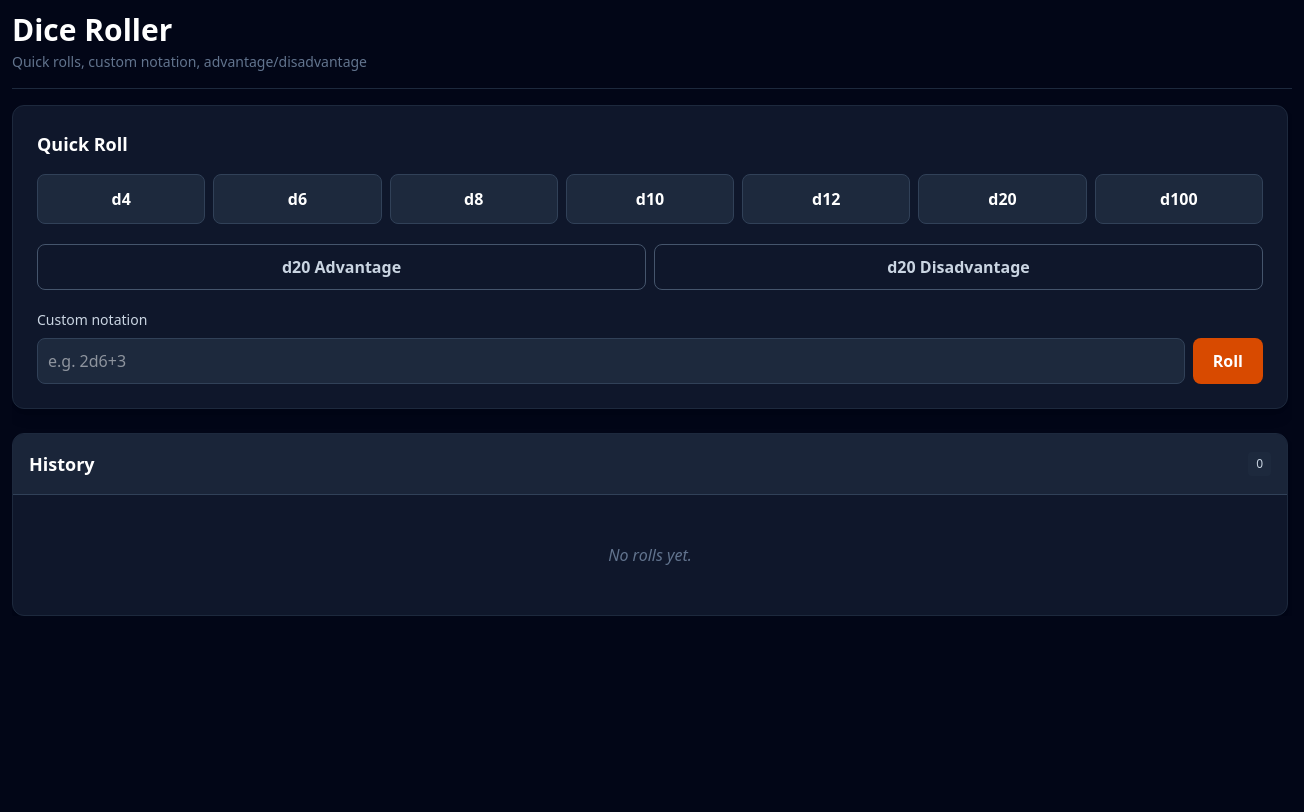
DiceRollerView › clicking a quick-roll die adds a result to history
This screenshot has width=1304, height=812.
Click the button "d20": (1003, 199) top-left (918, 174), bottom-right (1087, 224)
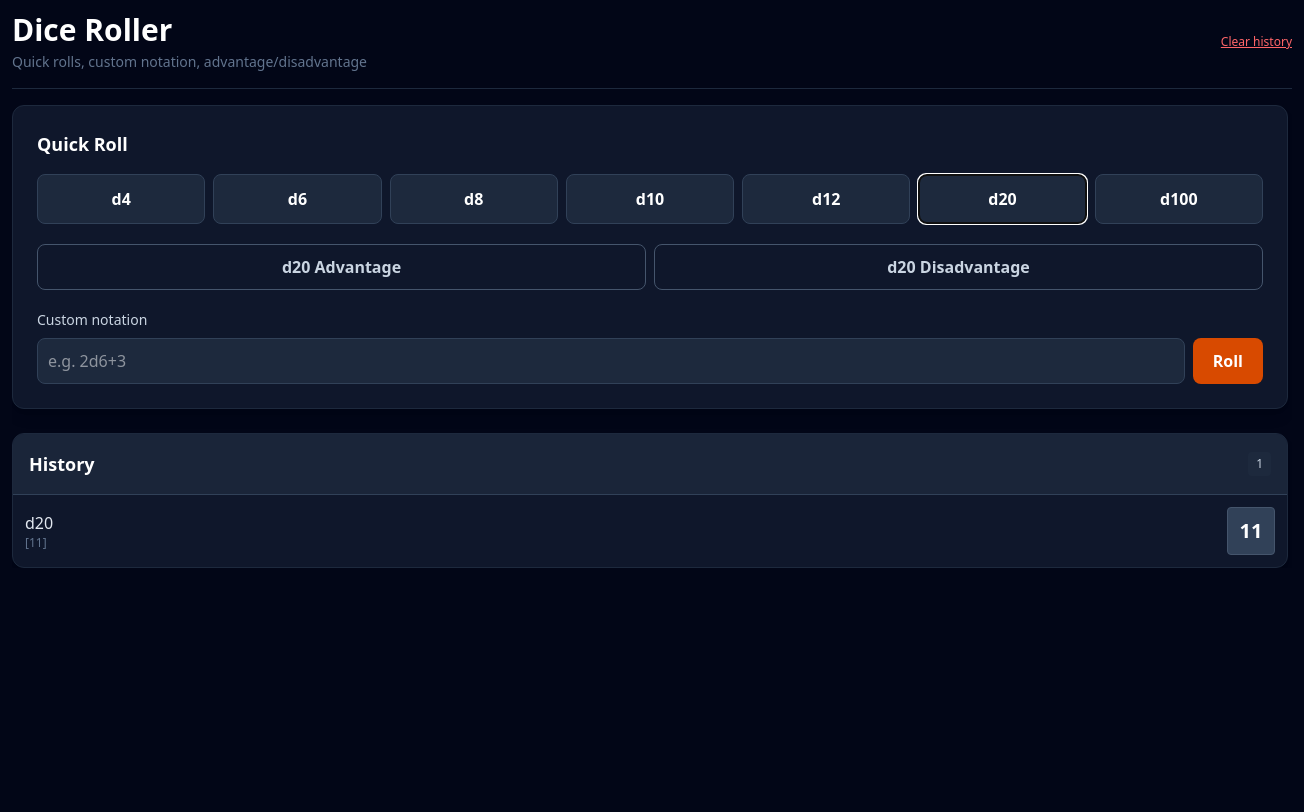
Result: the text "No rolls yet." is gone
Result: the text "11" is shown at top-left (1227, 507), bottom-right (1275, 555)
